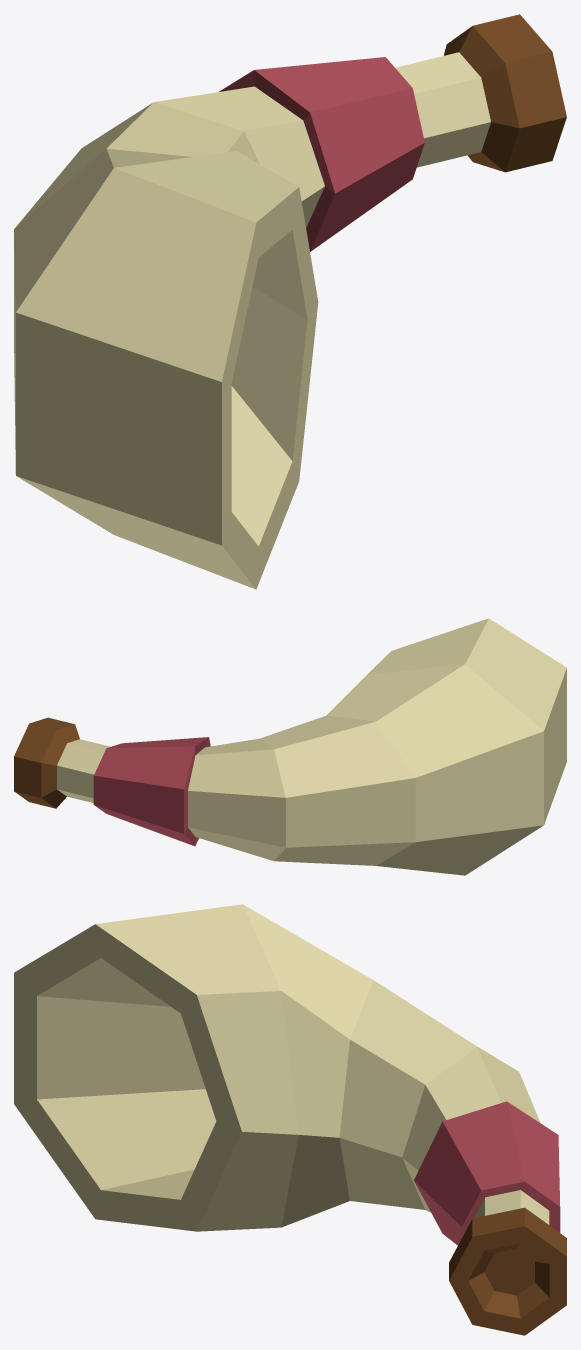
File: F_Horn_Red.fbx
3 renders of one model, top to bottom at view 1: azimuth 30°, elevation 25°; view 2: azimuth 150°, elevation 25°; view 3: azimuth 270°, elevation 25°, orthographic. The views are drawn at different scales.
Visible parts, largest first — view 1: F_Horn_Red; view 2: F_Horn_Red; view 3: F_Horn_Red.
Part boxes in pixels (x1,y1,x2,y2): F_Horn_Red: (14, 14, 566, 589); F_Horn_Red: (14, 618, 566, 875); F_Horn_Red: (14, 904, 566, 1335).
Size of the model in its own units: 44.6 by 22.39 by 38.01.
